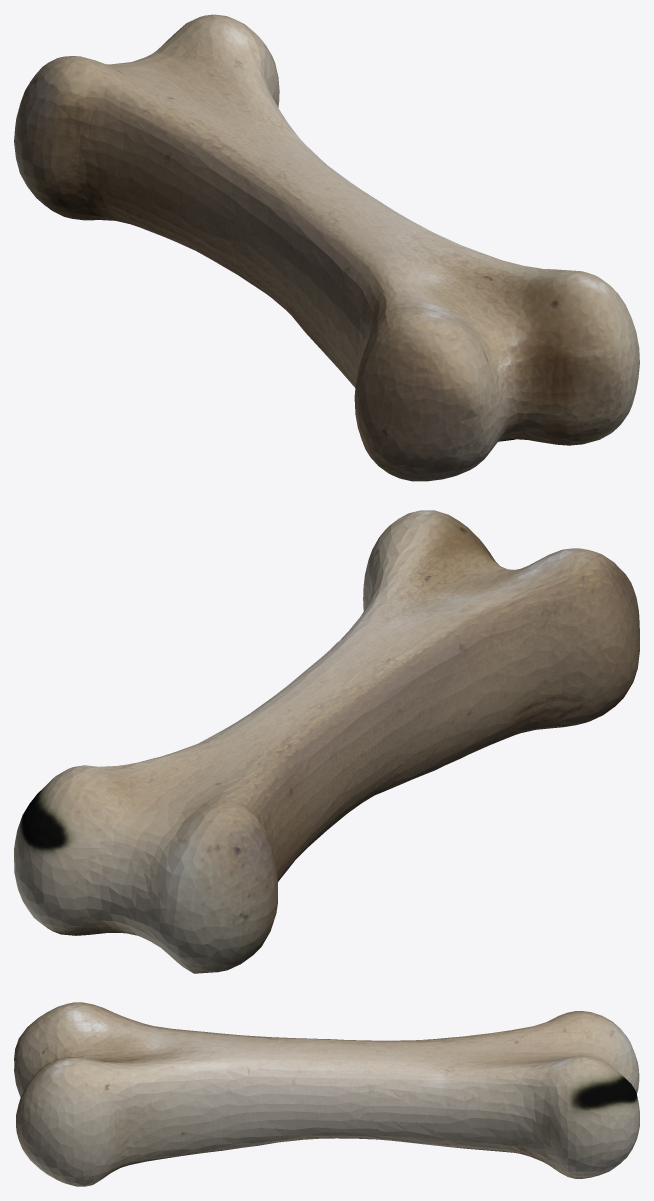
The picture shows the model from 3 angles, top to bottom: view 1: azimuth 30°, elevation 25°; view 2: azimuth 150°, elevation 25°; view 3: azimuth 270°, elevation 25°; orthographic projection. The views are drawn at different scales.
Parts seen in each view (by area): view 1: world; view 2: world; view 3: world.
Part boxes in pixels (x1=…): world: x1=14, y1=14, x2=639, y2=481; world: x1=14, y1=510, x2=639, y2=973; world: x1=14, y1=1002, x2=639, y2=1186.
Size of the model in its own units: 0.3504 by 0.2121 by 0.9999.
Materials: 1 (1 with a texture image).
